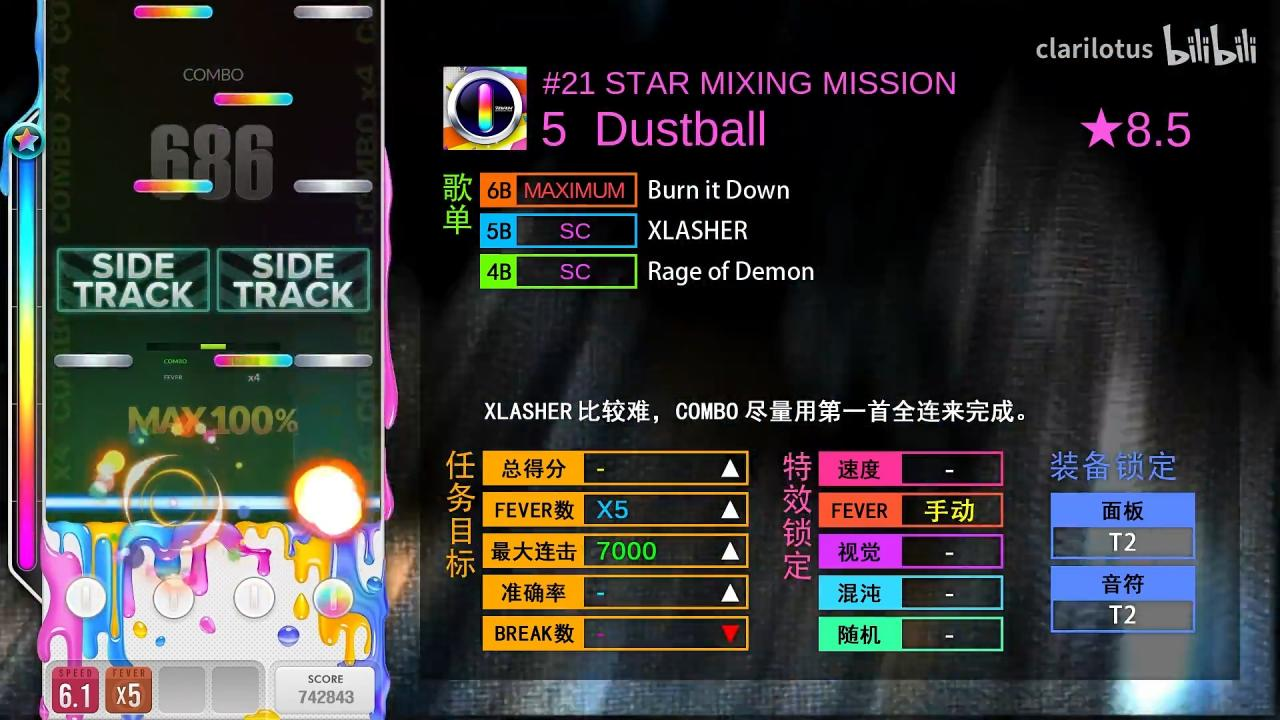note: (294, 4, 374, 20), (134, 179, 213, 194), (214, 92, 293, 107), (294, 179, 372, 194), (53, 354, 133, 368), (213, 354, 293, 368), (294, 354, 373, 368), (134, 5, 213, 19)
